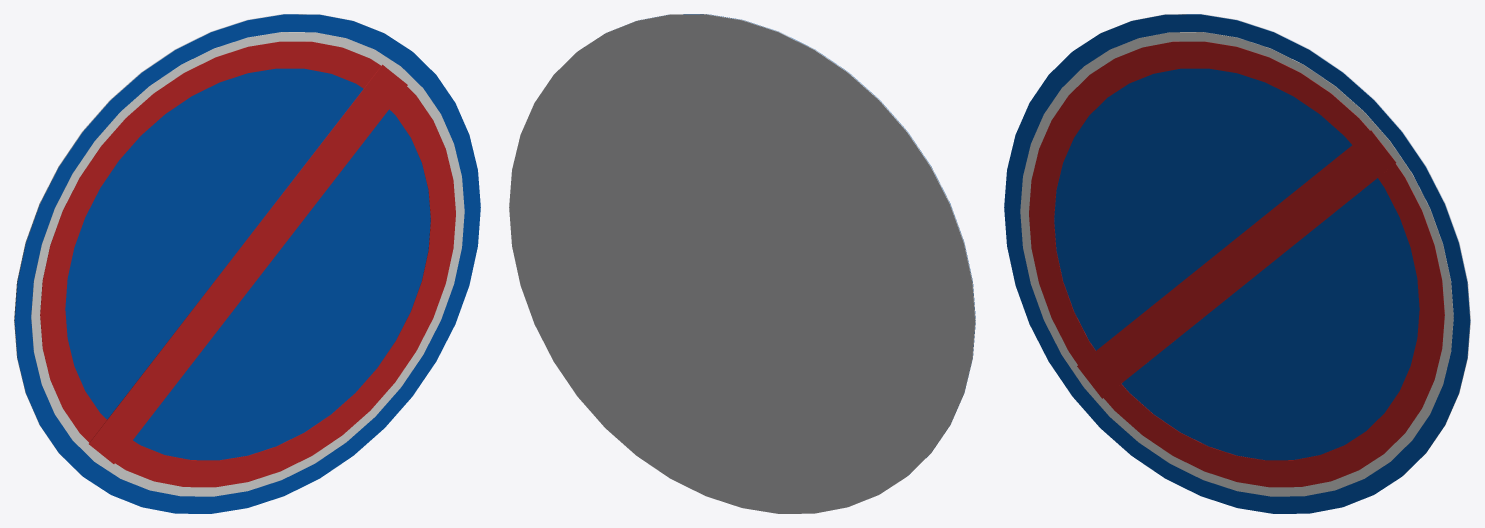
The picture shows the model from 3 angles, left to right: view 1: azimuth 30°, elevation 25°; view 2: azimuth 150°, elevation 25°; view 3: azimuth 330°, elevation 25°; orthographic projection.
Visible parts, largest first — view 1: B6a_d00, B6a_o02, B6a_p03, B6a_o01, B6a_dos; view 2: B6a_dos; view 3: B6a_d00, B6a_o02, B6a_p03, B6a_o01, B6a_dos.
Part boxes in pixels (<box>): B6a_d00: <box>14,14,480,513</box>; B6a_o02: <box>40,41,455,487</box>; B6a_p03: <box>89,64,407,463</box>; B6a_o01: <box>31,32,464,496</box>; B6a_dos: <box>14,14,383,475</box>; B6a_dos: <box>509,14,975,513</box>; B6a_d00: <box>1004,14,1470,513</box>; B6a_o02: <box>1029,41,1444,487</box>; B6a_p03: <box>1077,130,1396,398</box>; B6a_o01: <box>1020,32,1453,496</box>; B6a_dos: <box>1101,14,1470,475</box>.
Bounding box in the file's own units: 0.65 × 0.65 × 0.0029.
